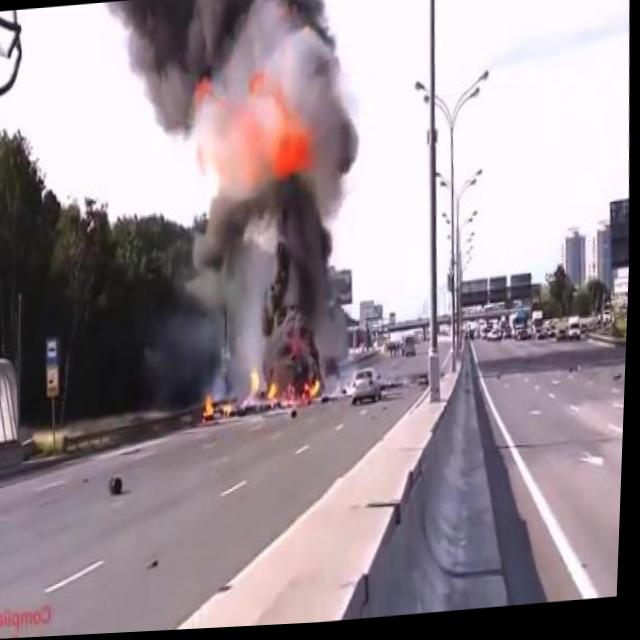fire: (244, 61, 322, 184), (303, 376, 324, 414), (267, 377, 281, 413), (250, 366, 262, 405), (207, 392, 218, 424)
